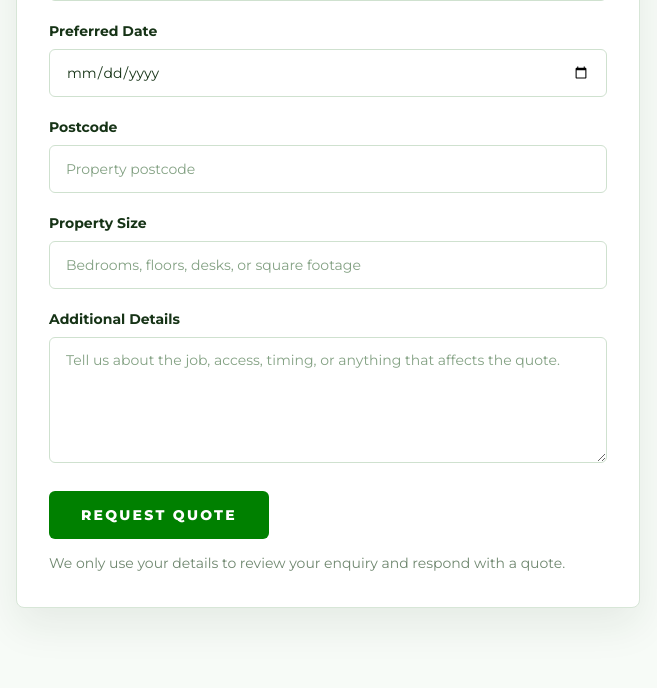
it: QuoteRequestForm › shows validation errors when required fields are missing
(page scrolled)
Click the button "Request Quote": (159, 515) [49,491,269,539]
(page scrolled)
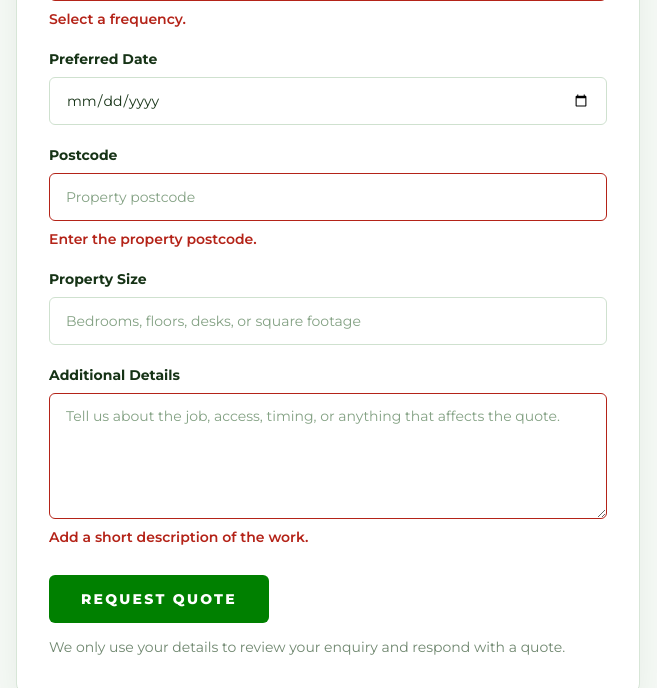
Result: the text "Add a short description of the work." is shown at [49,528,308,546]
